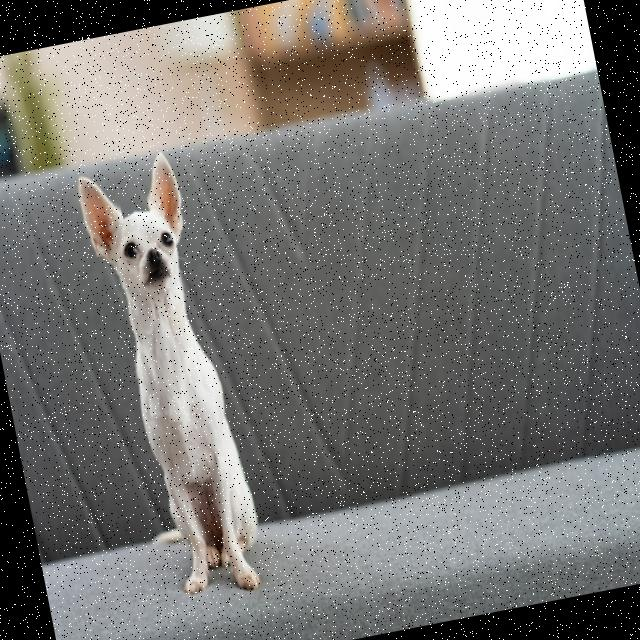Dog: (73, 148, 271, 606)
